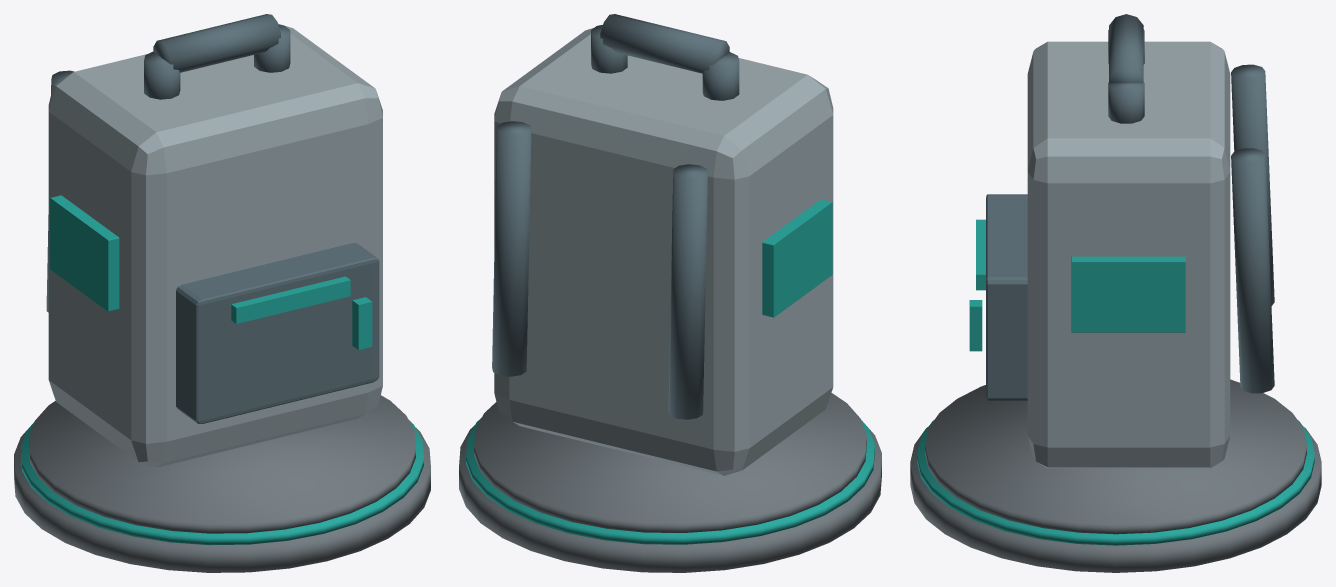
File: Backpack.glb
The picture shows the model from 3 angles, left to right: view 1: azimuth 30°, elevation 25°; view 2: azimuth 150°, elevation 25°; view 3: azimuth 270°, elevation 25°; orthographic projection. The views are drawn at different scales.
Parts seen in each view (by area): view 1: Pack_rounded_body, Base_top, Pack_front_pocket, Base_foot, Base_accent_ring, Pack_side_trim_L, Pack_handle_top, Pack_pocket_accent, Pack_handle_left, Pack_handle_right, Pack_zip_pull; view 2: Pack_rounded_body, Base_top, Base_foot, Pack_back_strap_R, Pack_back_strap_L, Base_accent_ring, Pack_side_trim_L, Pack_handle_top, Pack_handle_left, Pack_handle_right; view 3: Pack_rounded_body, Base_top, Base_foot, Pack_side_trim_R, Pack_front_pocket, Pack_back_strap_R, Base_accent_ring, Pack_back_strap_L, Pack_handle_top, Pack_handle_right, Pack_zip_pull, Pack_pocket_accent.
Boxes of the visible parts, x1=… form: Pack_rounded_body: x1=48, y1=23, x2=382, y2=467; Base_top: x1=29, y1=395, x2=415, y2=533; Pack_front_pocket: x1=176, y1=243, x2=379, y2=423; Base_foot: x1=14, y1=427, x2=430, y2=572; Base_accent_ring: x1=21, y1=420, x2=423, y2=545; Pack_side_trim_L: x1=50, y1=195, x2=119, y2=311; Pack_handle_top: x1=153, y1=14, x2=280, y2=72; Pack_pocket_accent: x1=231, y1=276, x2=350, y2=323; Pack_handle_left: x1=144, y1=51, x2=180, y2=99; Pack_handle_right: x1=254, y1=24, x2=290, y2=72; Pack_zip_pull: x1=352, y1=297, x2=372, y2=350; Pack_rounded_body: x1=494, y1=28, x2=833, y2=475; Base_top: x1=474, y1=393, x2=866, y2=532; Base_foot: x1=459, y1=421, x2=881, y2=572; Pack_back_strap_R: x1=492, y1=121, x2=531, y2=376; Pack_back_strap_L: x1=668, y1=164, x2=707, y2=419; Base_accent_ring: x1=466, y1=418, x2=874, y2=544; Pack_side_trim_L: x1=762, y1=199, x2=832, y2=317; Pack_handle_top: x1=600, y1=14, x2=729, y2=73; Pack_handle_left: x1=702, y1=52, x2=739, y2=100; Pack_handle_right: x1=591, y1=25, x2=627, y2=73; Pack_rounded_body: x1=1027, y1=41, x2=1230, y2=468; Base_top: x1=925, y1=379, x2=1306, y2=534; Base_foot: x1=910, y1=426, x2=1321, y2=572; Pack_side_trim_R: x1=1071, y1=256, x2=1185, y2=332; Pack_front_pocket: x1=986, y1=194, x2=1027, y2=400; Pack_back_strap_R: x1=1231, y1=148, x2=1274, y2=393; Base_accent_ring: x1=917, y1=420, x2=1314, y2=545; Pack_back_strap_L: x1=1231, y1=64, x2=1274, y2=305; Pack_handle_top: x1=1109, y1=14, x2=1143, y2=83; Pack_handle_right: x1=1108, y1=82, x2=1144, y2=123; Pack_zip_pull: x1=969, y1=300, x2=982, y2=351; Pack_pocket_accent: x1=976, y1=219, x2=985, y2=290.
Bounding box in the file's own units: 0.79 × 0.945 × 0.79.
